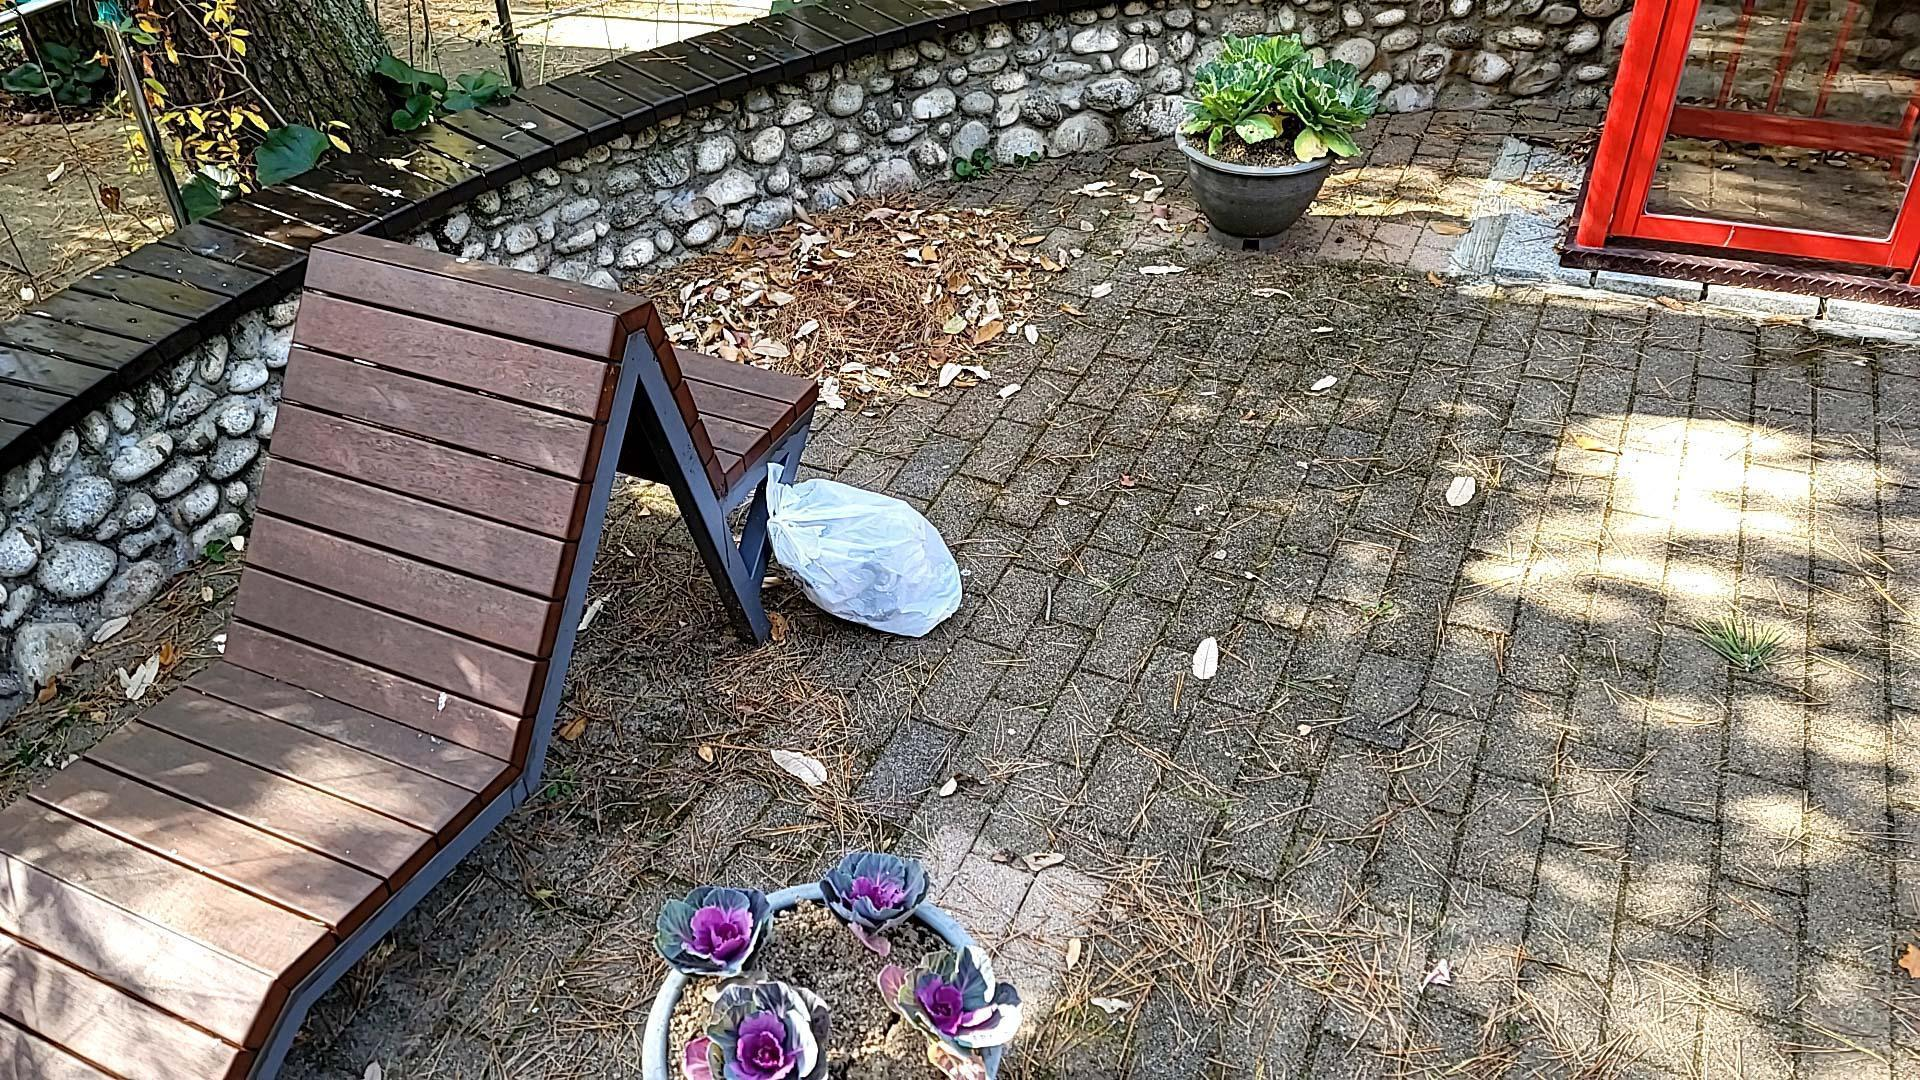white_bag: (750, 454, 973, 646)
